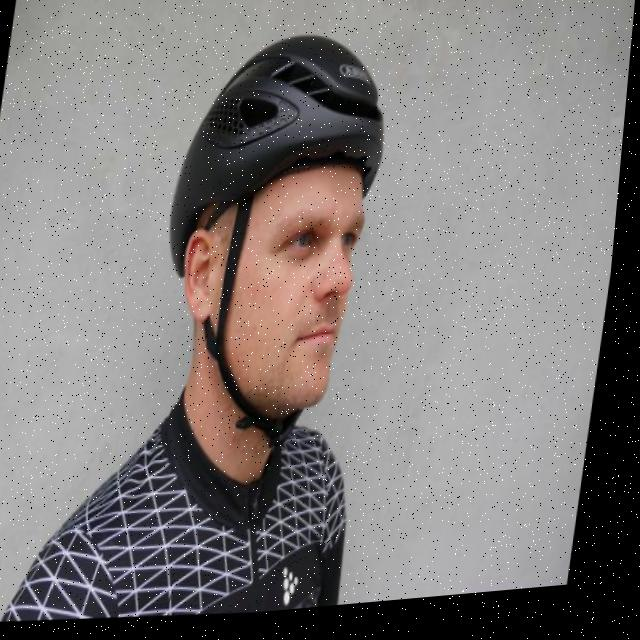illegal_helmet: (138, 20, 410, 485)
